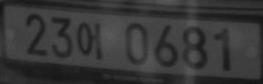0: (124, 21, 149, 66)
1: (211, 27, 236, 71)
2: (25, 12, 48, 57)
3: (50, 16, 73, 58)
6: (153, 23, 179, 69)
8: (181, 24, 208, 70)
어: (76, 21, 103, 60)
